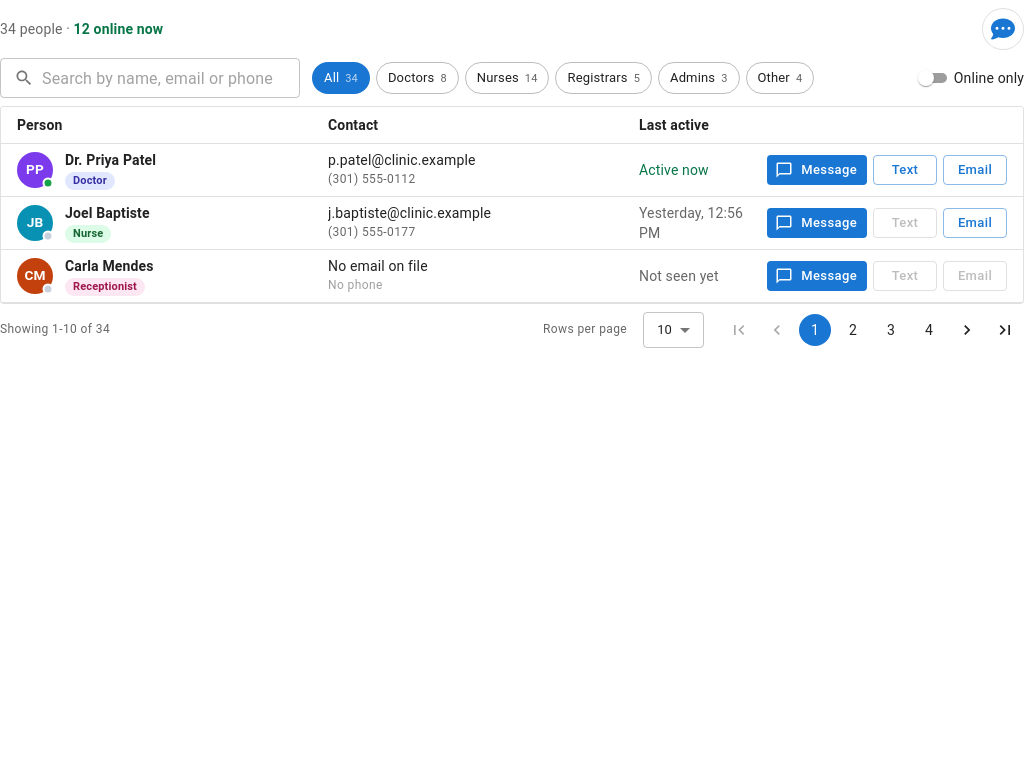
it: details panel › opens on a click, shows contact and texting, and closes
The image size is (1024, 768).
Click the row named "Details for Dr. Priya Patel".
click(512, 170)  # box [1, 144, 1023, 197]
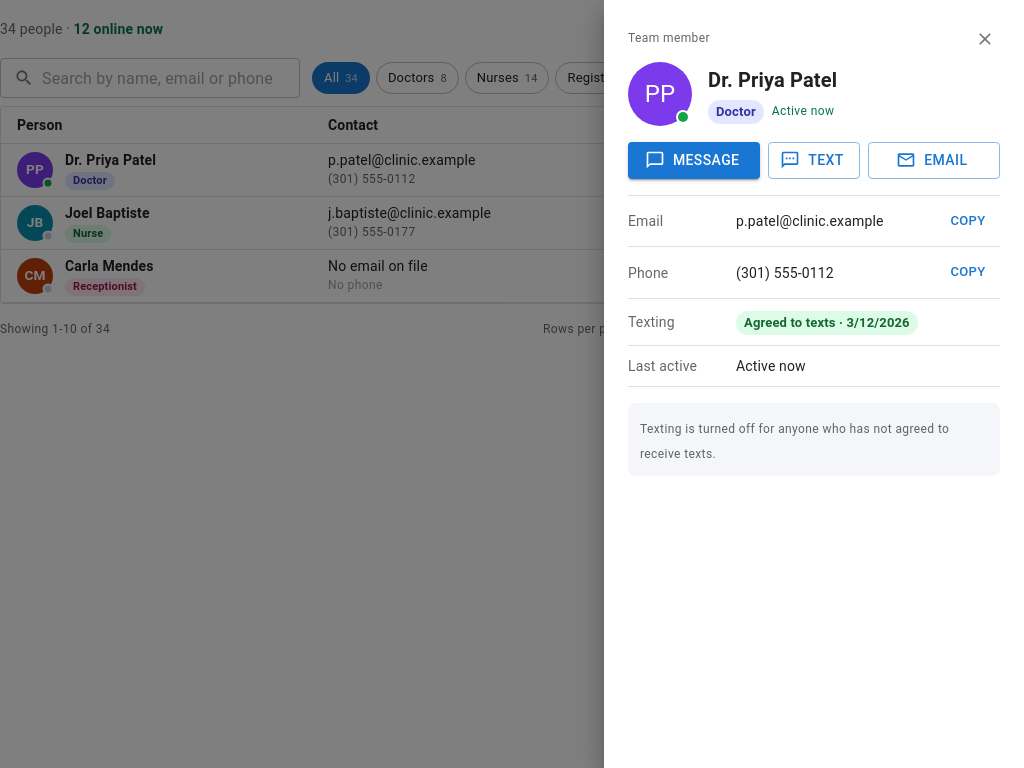
Expected: the heading with test id "drawer-name" reads "Dr. Priya Patel", [708, 68, 837, 92]
Expected: the text "p.patel@clinic.example" is shown, [736, 213, 884, 229]
Expected: the text "(301) 555-0112" is shown, [736, 265, 834, 281]
Click the button named "Close details".
click(985, 39)  # box [970, 24, 1000, 54]
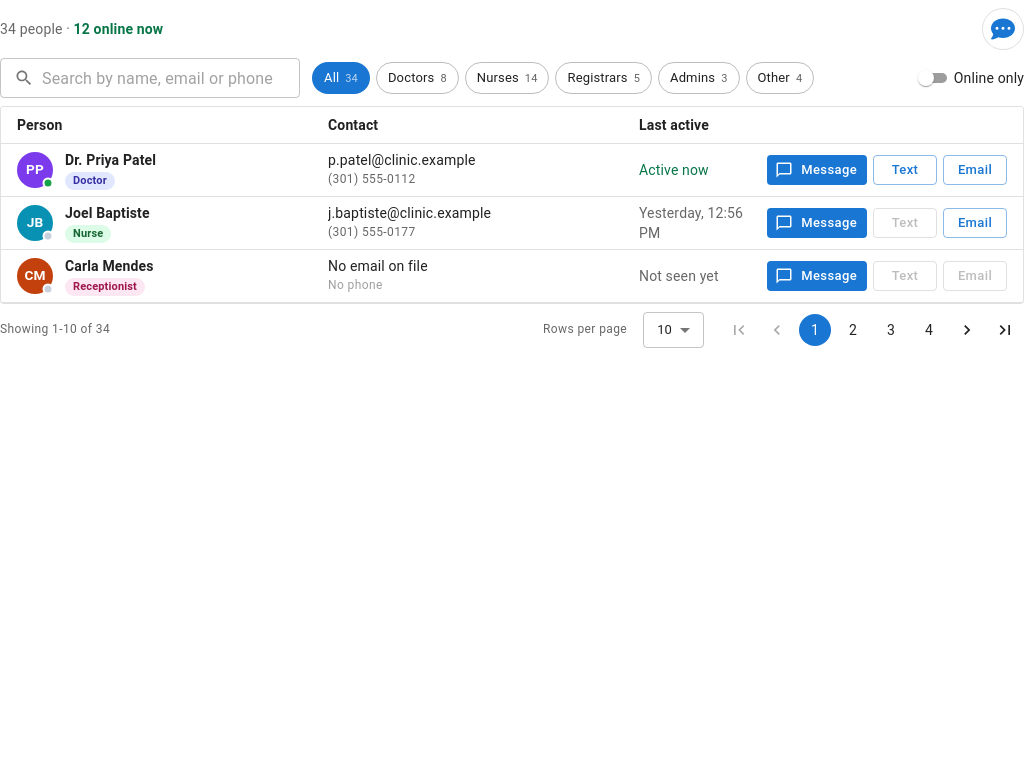
Expected: the heading with test id "drawer-name" is gone
